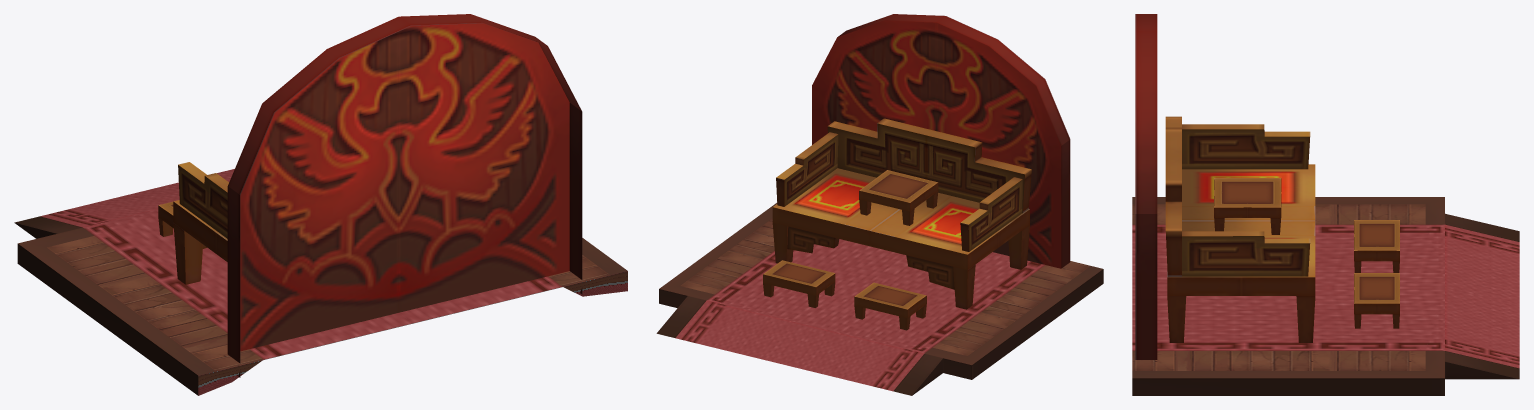
File: FB_Chengxiangfu_zhuzuo.FBX
3 renders of one model, left to right at view 1: azimuth 30°, elevation 25°; view 2: azimuth 150°, elevation 25°; view 3: azimuth 270°, elevation 25°, orthographic. The views are drawn at different scales.
Visible parts, largest first — view 1: Object14, Box02, Object13; view 2: Box02, Object13, Object14; view 3: Box02, Object13, Object14.
Boxes of the visible parts, x1,y1,x2,y2 form: Object14: (227, 14, 582, 377); Box02: (14, 169, 627, 395); Object13: (158, 162, 228, 284); Box02: (656, 202, 1103, 395); Object13: (763, 118, 1031, 330); Object14: (812, 14, 1070, 268); Box02: (1132, 197, 1519, 395); Object13: (1165, 116, 1399, 342); Object14: (1135, 14, 1157, 359).
Size of the model in its own units: 8.95 by 6.3 by 8.07.
